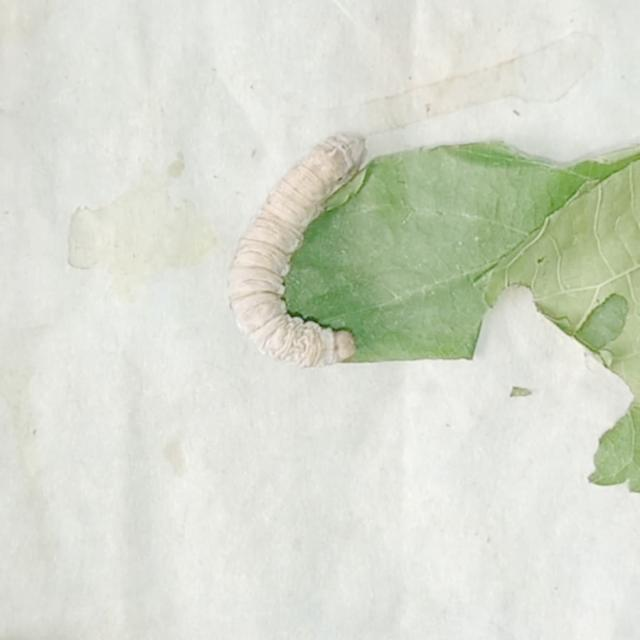Grasserie: (205, 84, 386, 383)
